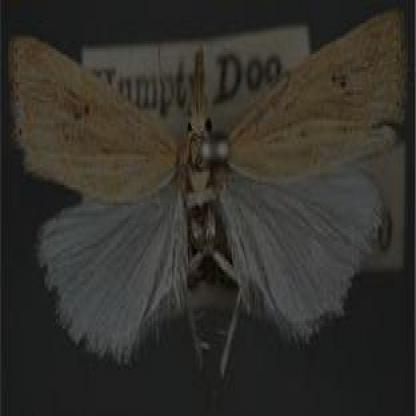stem-borer: (8, 7, 409, 384)
